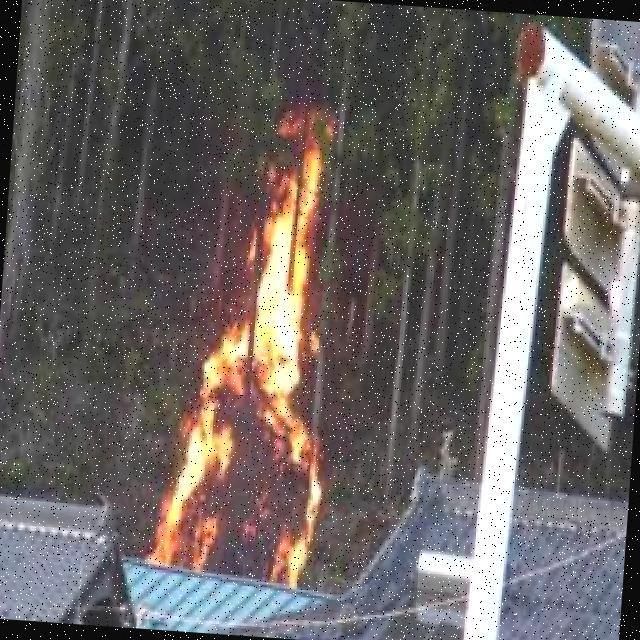Fire: (152, 143, 345, 597)
